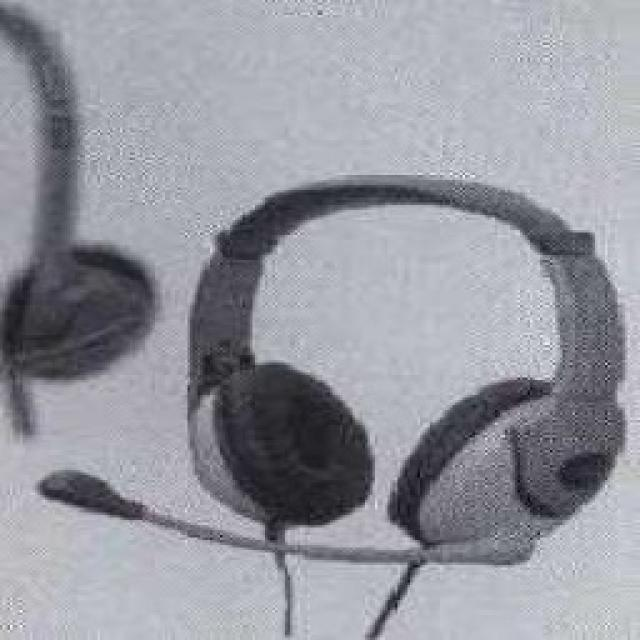kulaklik: (173, 161, 633, 559)
